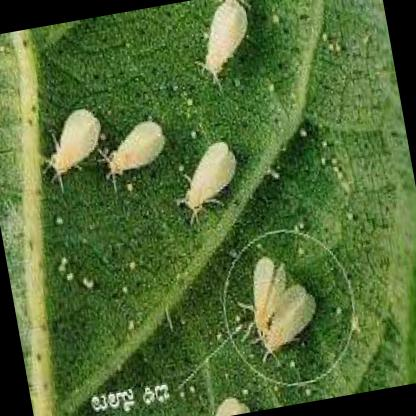whitefly: (184, 141, 237, 212), (265, 283, 317, 354), (50, 108, 100, 176), (107, 121, 165, 176), (203, 3, 247, 75), (253, 256, 286, 343)
